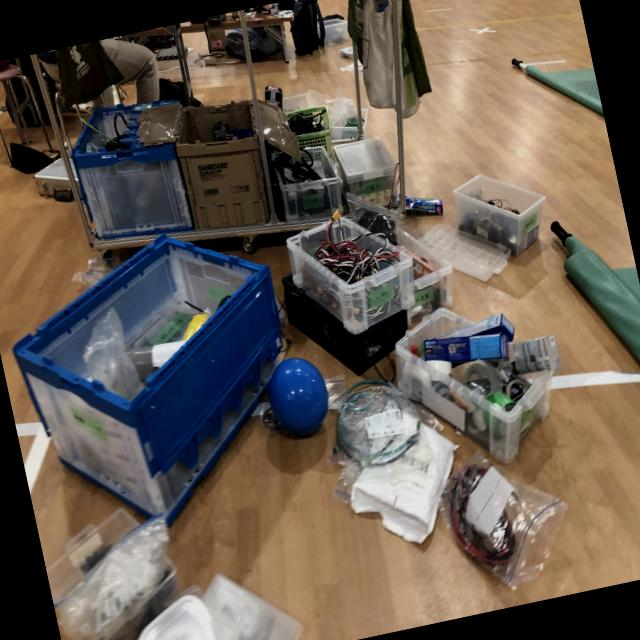blue_ball: (258, 351, 334, 441)
